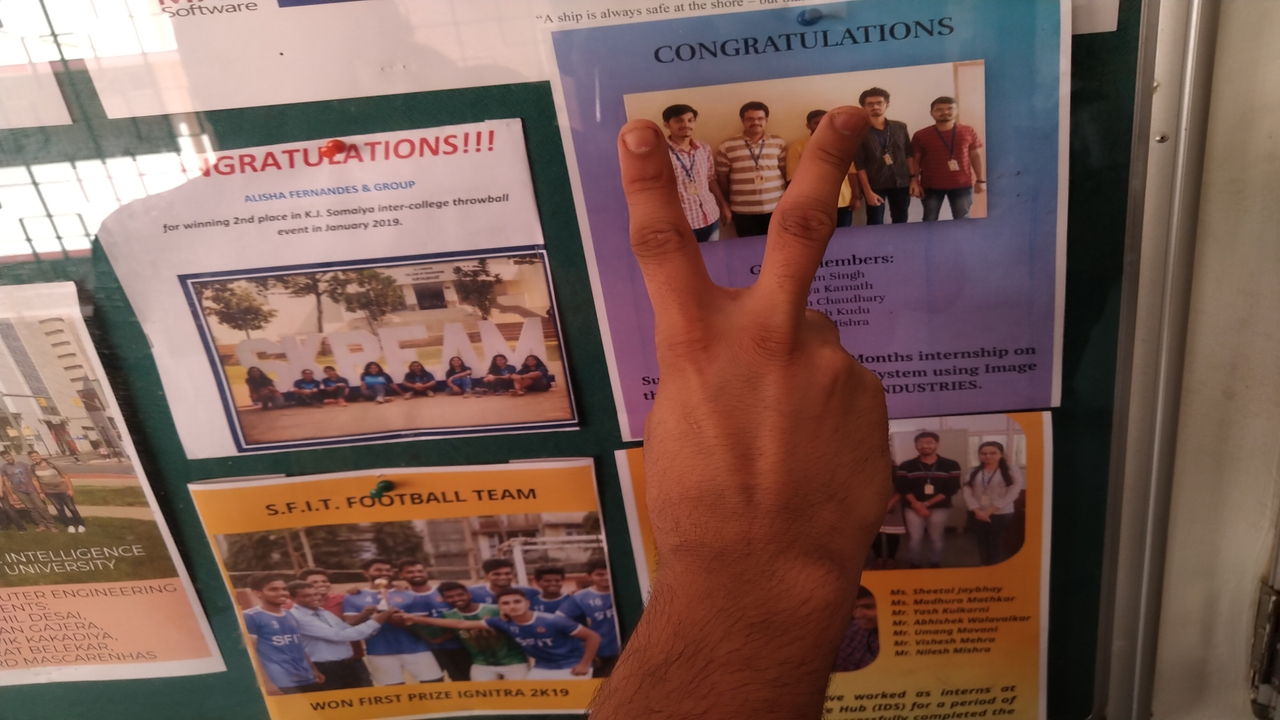fingertip: (610, 114, 668, 170), (821, 102, 873, 154)
